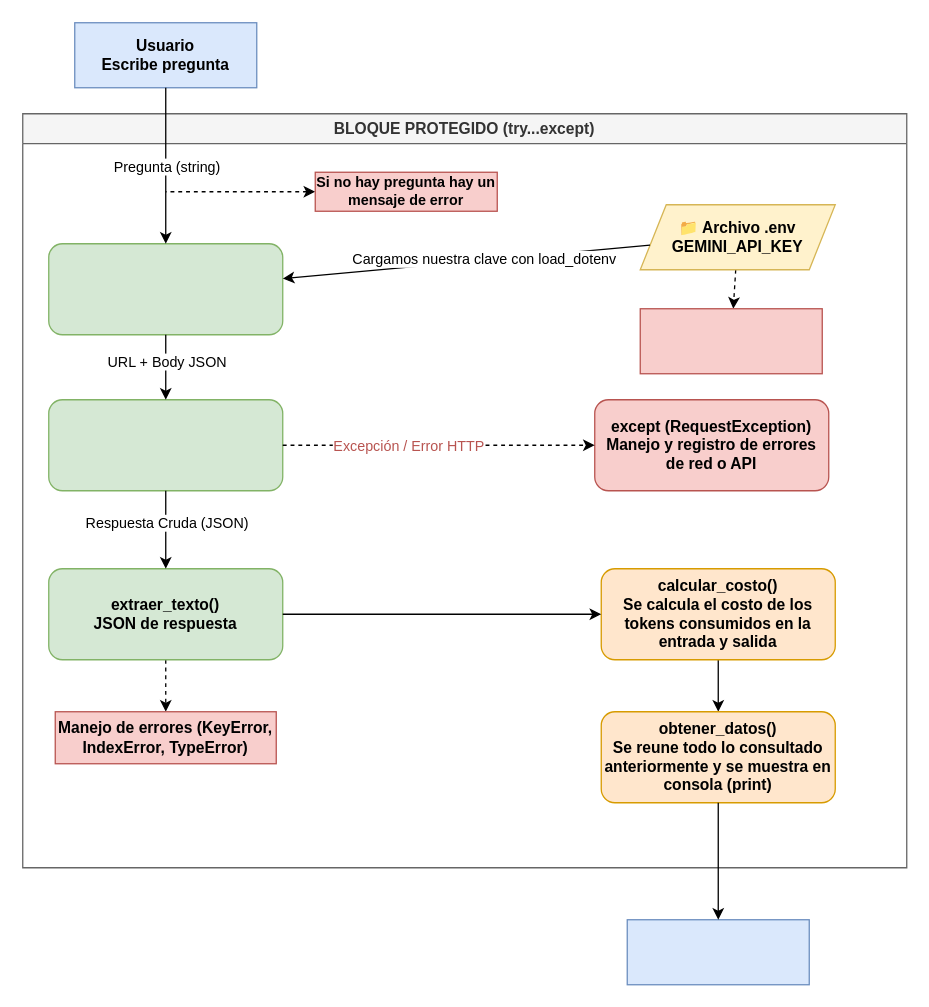
Some shapes in this 929 by 1007 pixel diagram are drawn without their labels. Here are the shapes that lost their labels. From the top down, the box of each, then its label:
(47, 242, 283, 335): armar_peticion() Construye URL y Body JSON con prompt y API Key
(639, 307, 822, 374): Si no se encuentra la API hay un mensaje de error
(47, 398, 283, 491): enviar_peticion() Realiza llamada HTTP POST a la API de Gemini
(626, 918, 809, 985): Respuesta Final + Costo al Usuario
